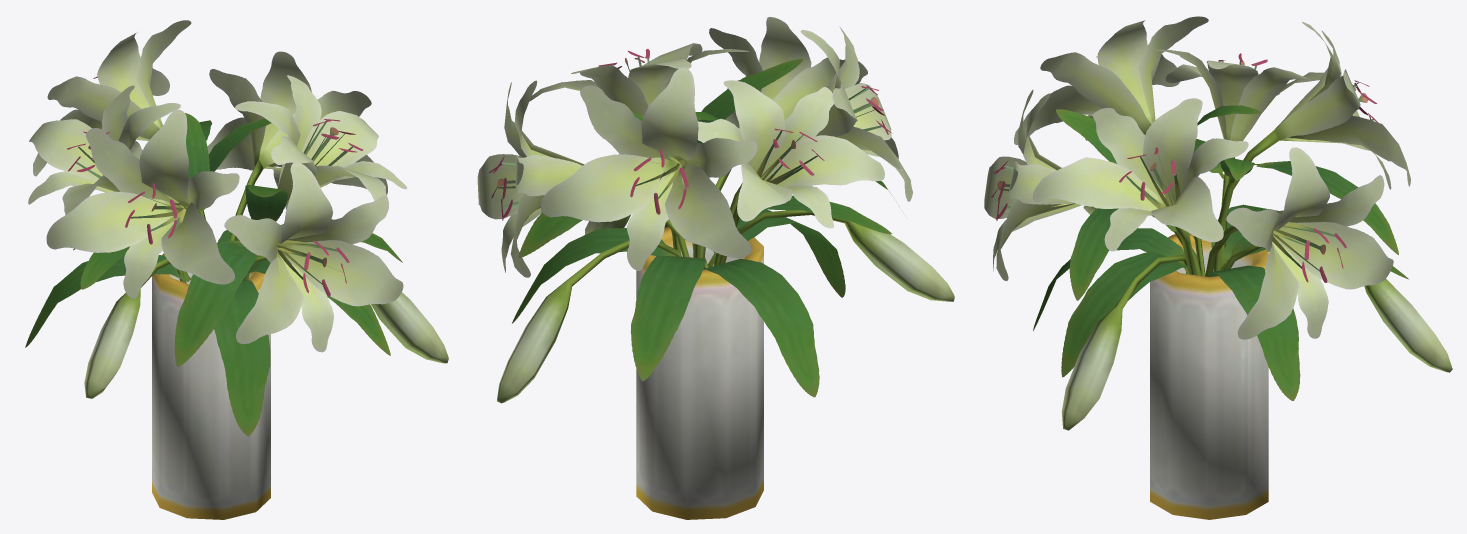
3 renders of one model, left to right at view 1: azimuth 30°, elevation 25°; view 2: azimuth 150°, elevation 25°; view 3: azimuth 270°, elevation 25°, orthographic. The views are drawn at different scales.
Bounding box in the file's own units: 8.74 × 9.92 × 9.15.
1 material, 1 textured.
